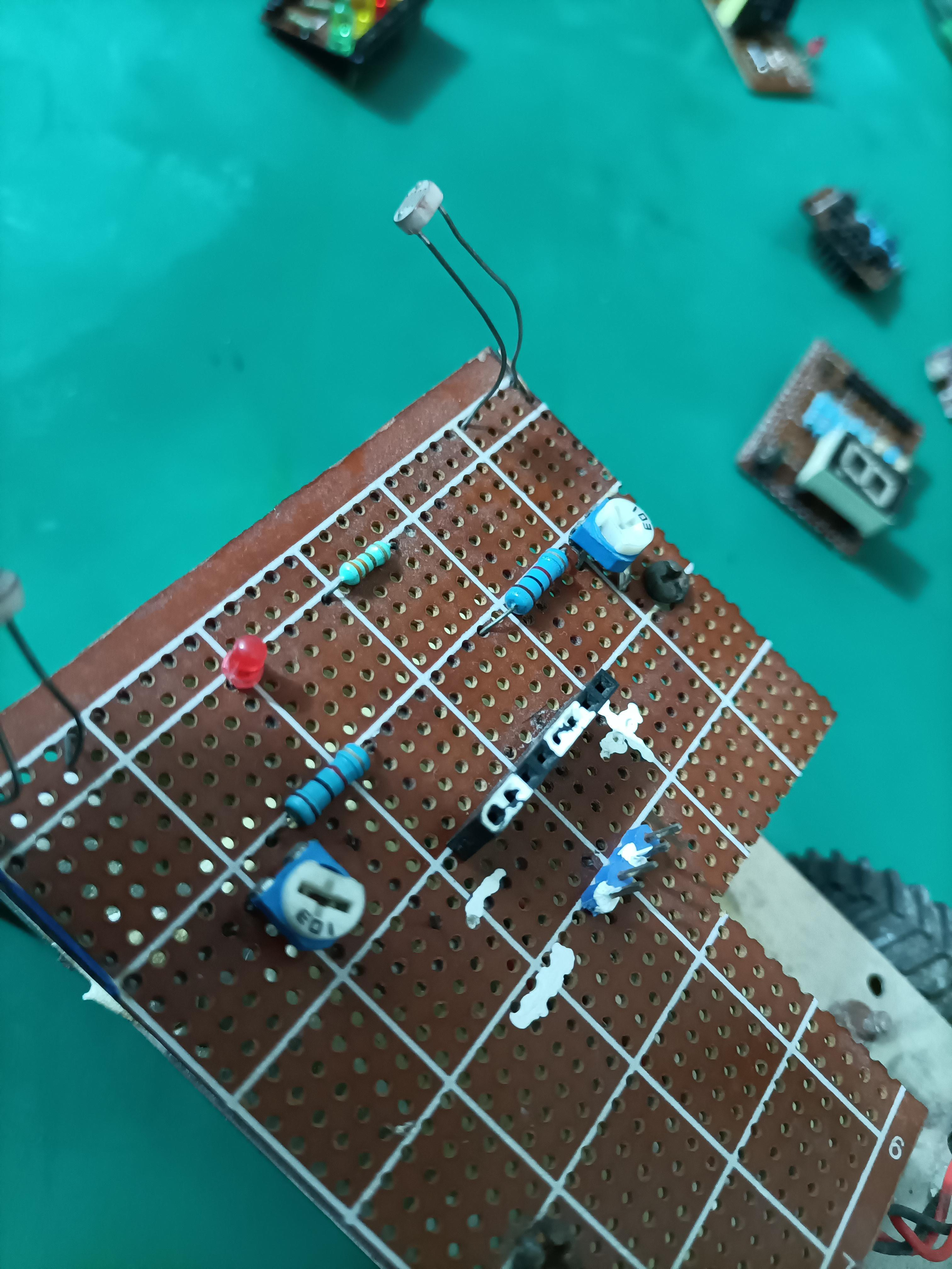LED: (213, 632, 276, 695)
Resistencia: (466, 610, 589, 655), (268, 807, 390, 852), (308, 586, 430, 630)
